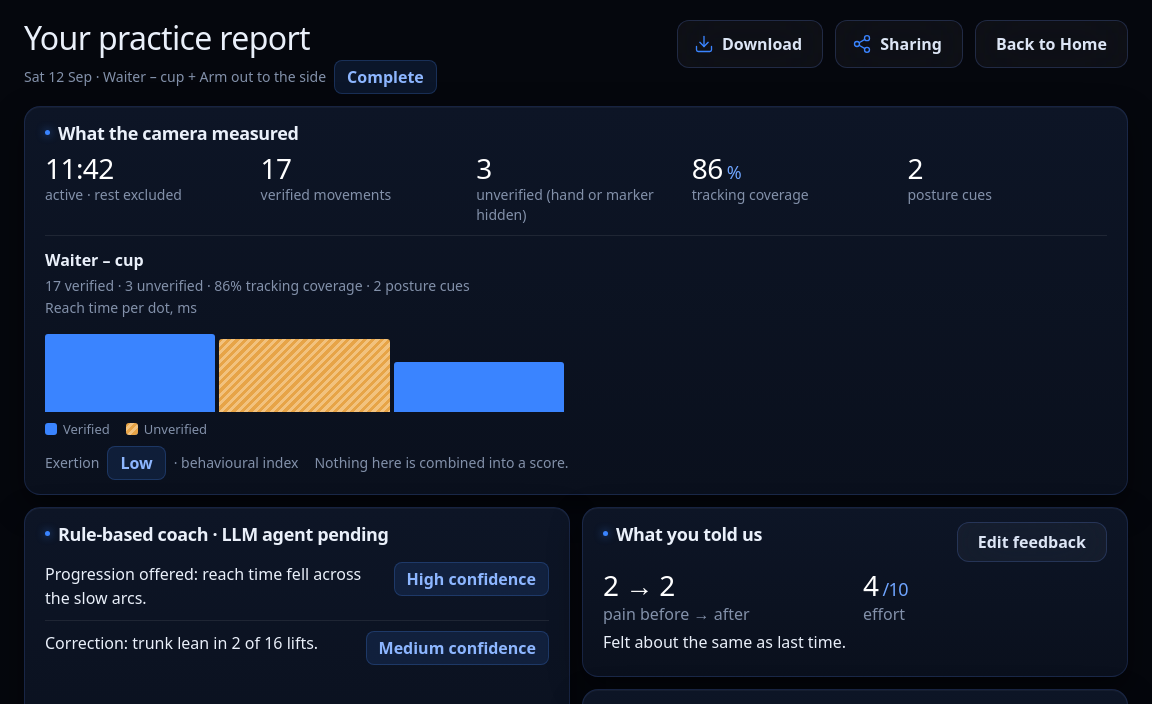
the patient report shows no therapist-flags card and no delivery card
The width and height of the screenshot is (1152, 704).
Check: the heading "What the camera measured" is shown, box [45,120,298,144]
Check: the text "not yet delivered" is not shown
// the delivery status is still one tap away, in Sharing
Click the button "Sharing" at (899, 44), box [835,20,963,68]
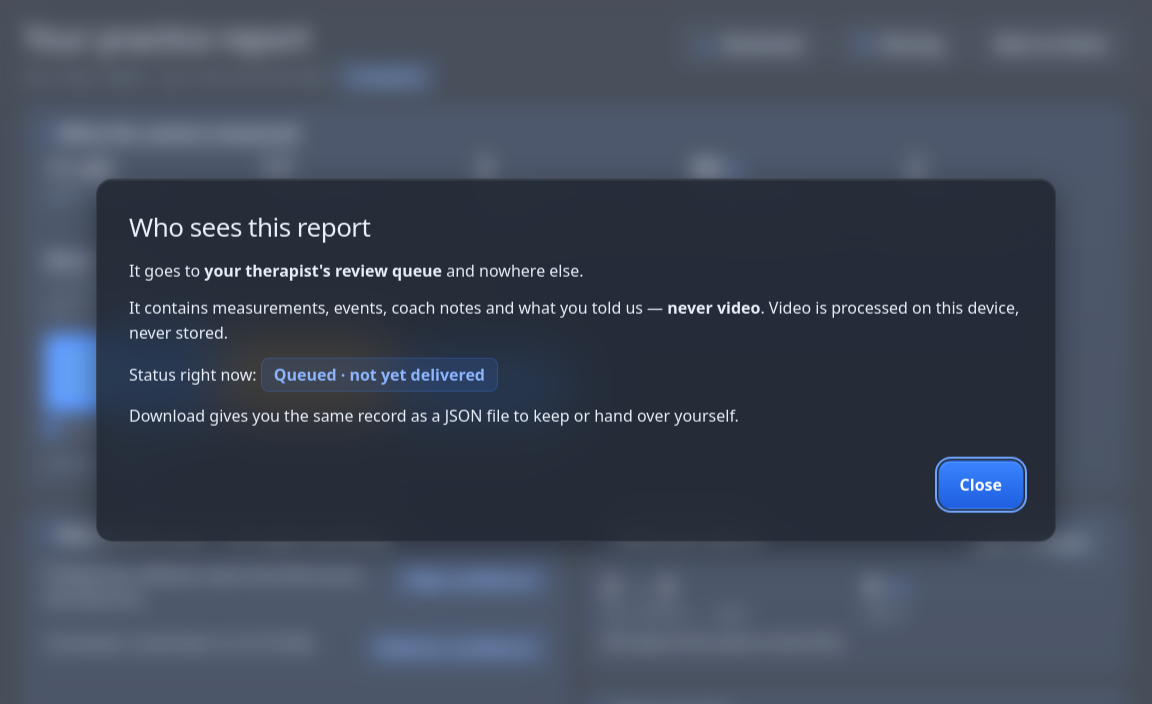
Check: the dialog "Who sees this report" shows "not yet delivered", box [274,364,485,386]
